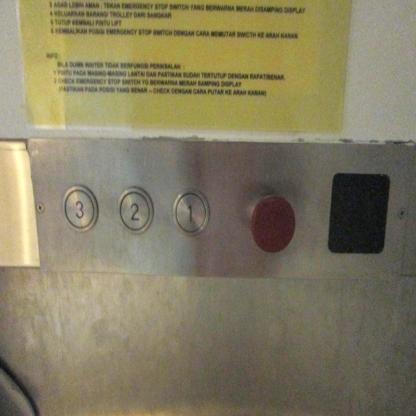1: (172, 188, 210, 237)
2: (116, 186, 153, 234)
3: (61, 184, 98, 231)
empty: (249, 191, 295, 255)
led: (328, 172, 390, 254)
